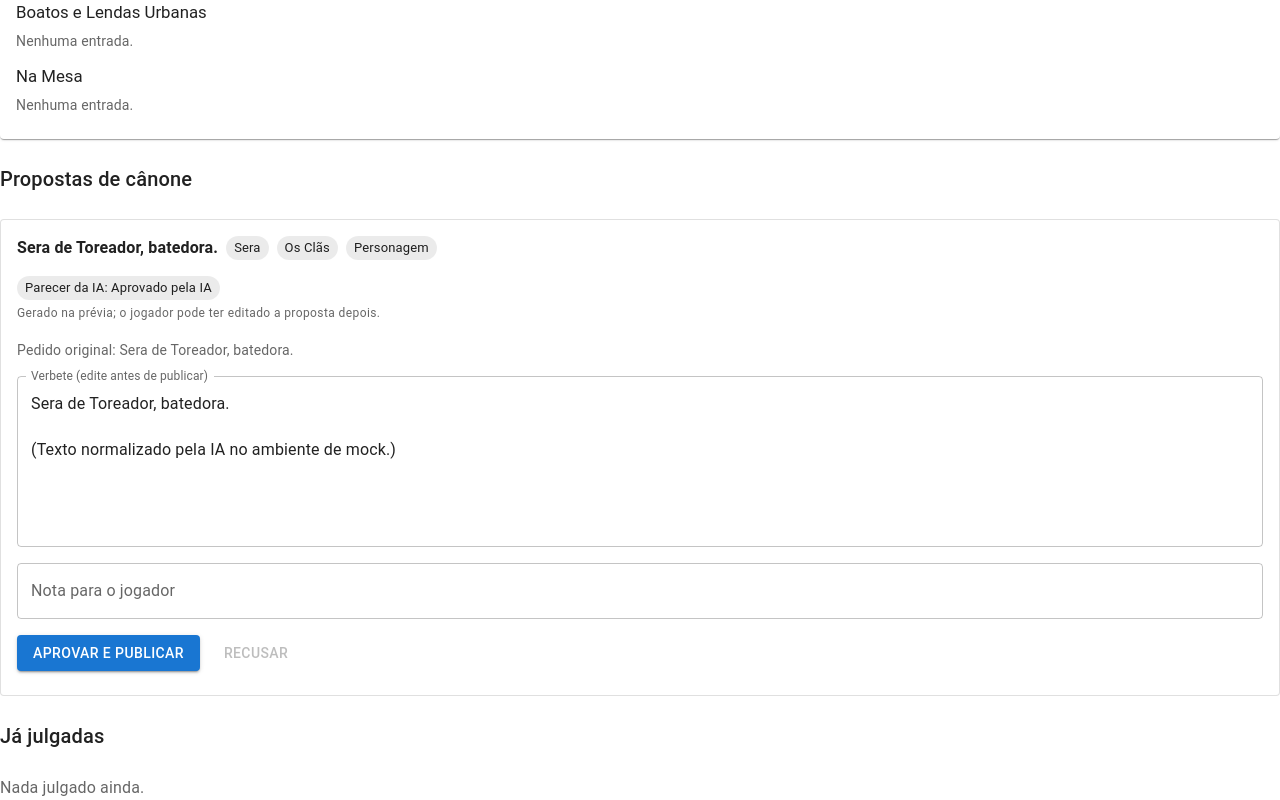
Test case: AdminCanonTab › rejects with the typed note
(page scrolled)
Step 1. Type "Conflita com o cerco." into the field labelled "Nota para o jogador" → [640, 591], box [17,563,1263,619]
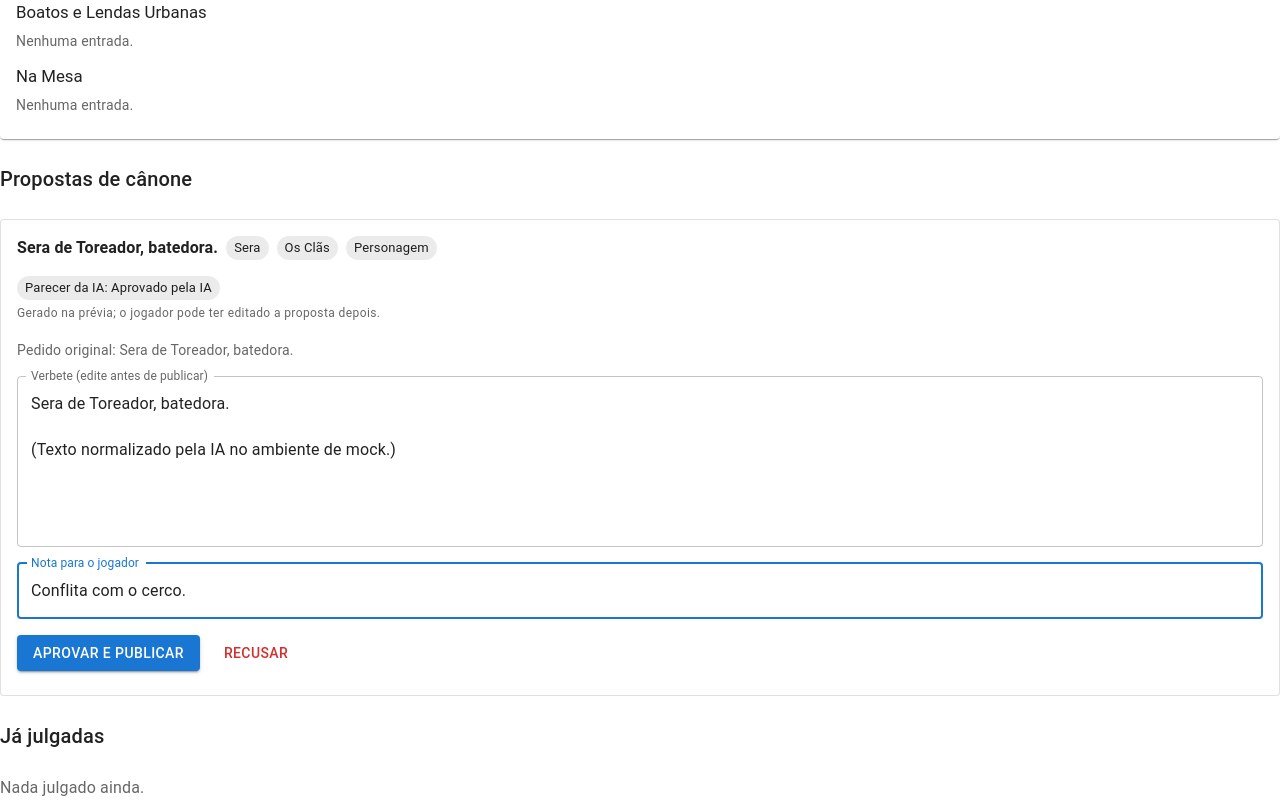
Step 2. Click the button "Recusar" → [256, 653], box [216,635,296,671]
(page scrolled)
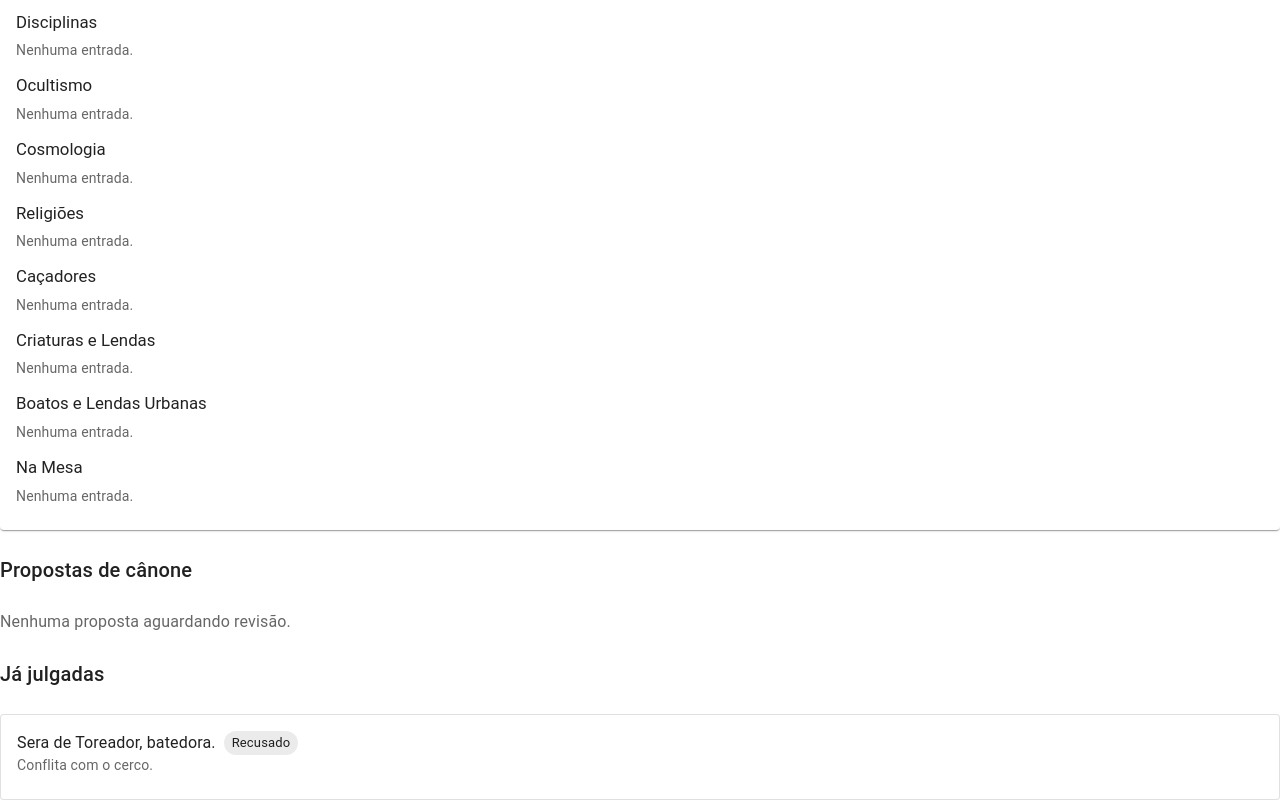
Expected: the text "Conflita com o cerco." is shown, [17,757,153,773]
Expected: the button "Recusar" is gone
Expected: the text "Recusado" is shown, [232,735,290,750]
